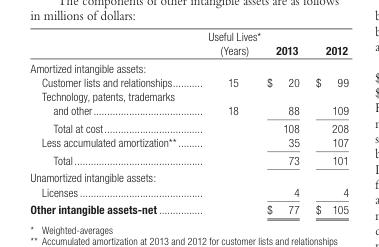table: (29, 29, 347, 215)
table column: (29, 29, 191, 215), (191, 29, 263, 215), (263, 29, 306, 215), (306, 29, 347, 215)
table column header: (29, 29, 347, 58)
table projected row header: (29, 58, 347, 74), (29, 168, 347, 184)
table row: (29, 88, 347, 118), (29, 29, 347, 58), (29, 150, 347, 168), (29, 58, 347, 74), (29, 118, 347, 134), (29, 134, 347, 150), (29, 168, 347, 184), (29, 184, 347, 200), (29, 200, 347, 215), (29, 74, 347, 88)
